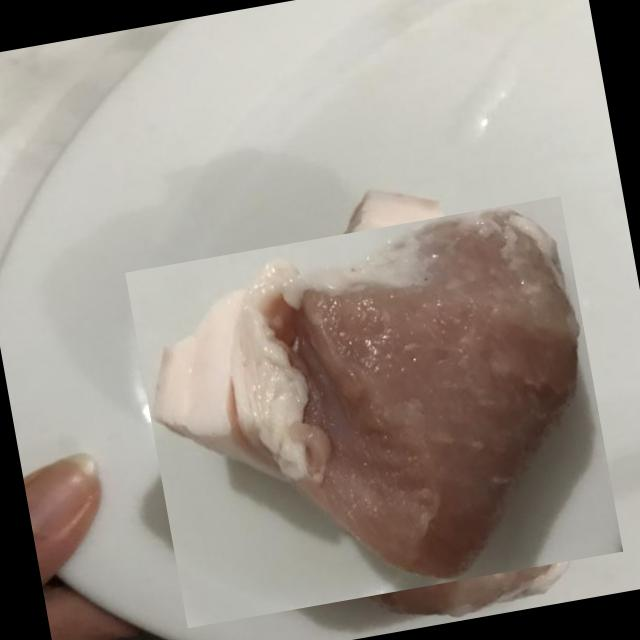chicken: (141, 178, 607, 640)
